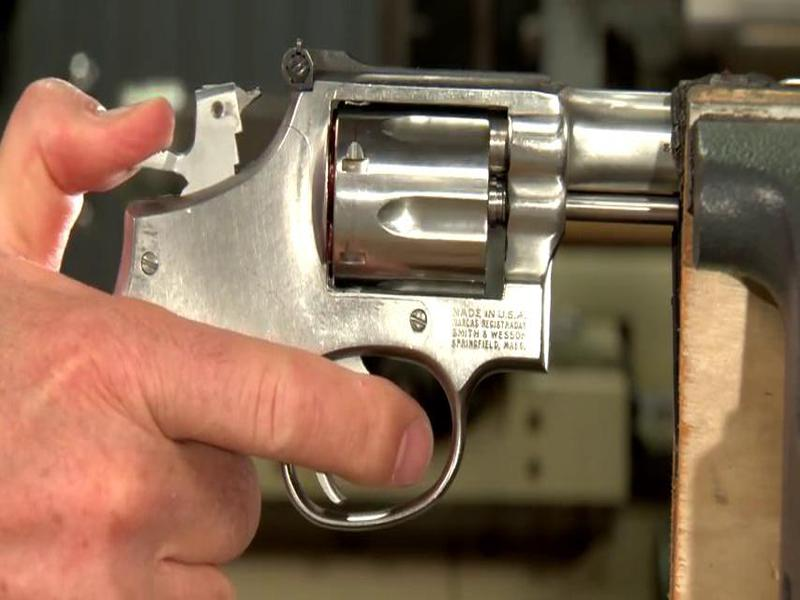Revolver: (57, 28, 686, 537)
